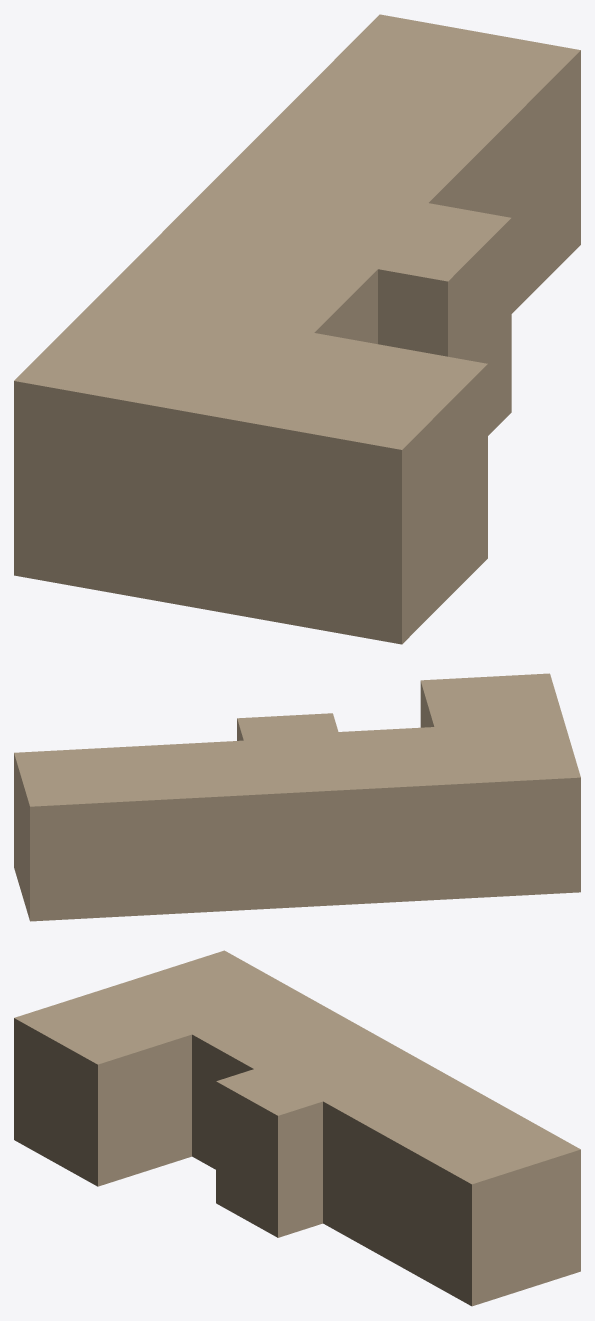
The model's file is bld_276105872.dae.
The picture shows the model from 3 angles, top to bottom: view 1: azimuth 30°, elevation 25°; view 2: azimuth 150°, elevation 25°; view 3: azimuth 270°, elevation 25°; orthographic projection. The views are drawn at different scales.
Visible parts, largest first — view 1: Bourchiers; view 2: Bourchiers; view 3: Bourchiers.
Boxes of the visible parts, x1,y1,x2,y2 form: Bourchiers: [14, 14, 580, 644]; Bourchiers: [14, 673, 580, 921]; Bourchiers: [14, 950, 580, 1306].
Size of the model in its own units: 32.88 by 33.67 by 8.
